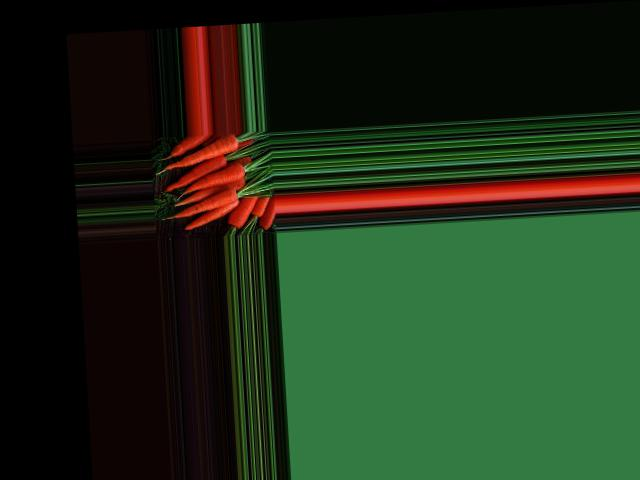carrot: (156, 133, 246, 165)
